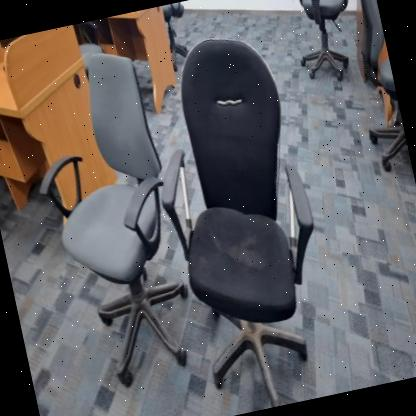chair: (125, 17, 354, 416), (4, 38, 205, 396)
